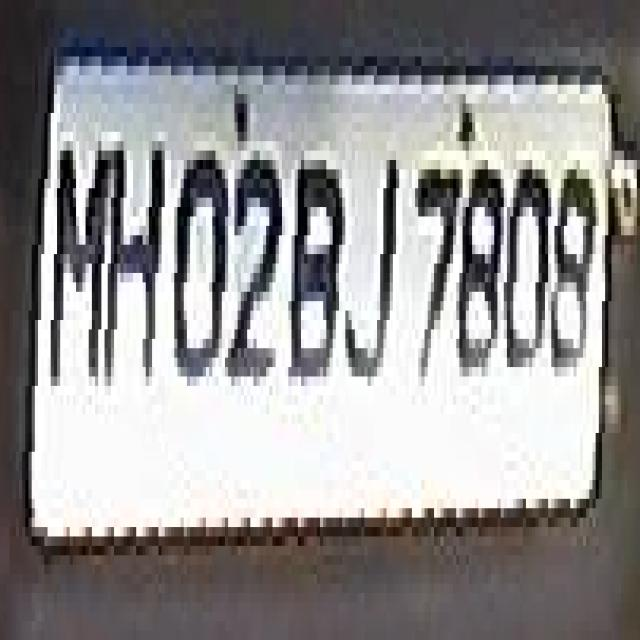license_plate: (0, 0, 605, 518)
